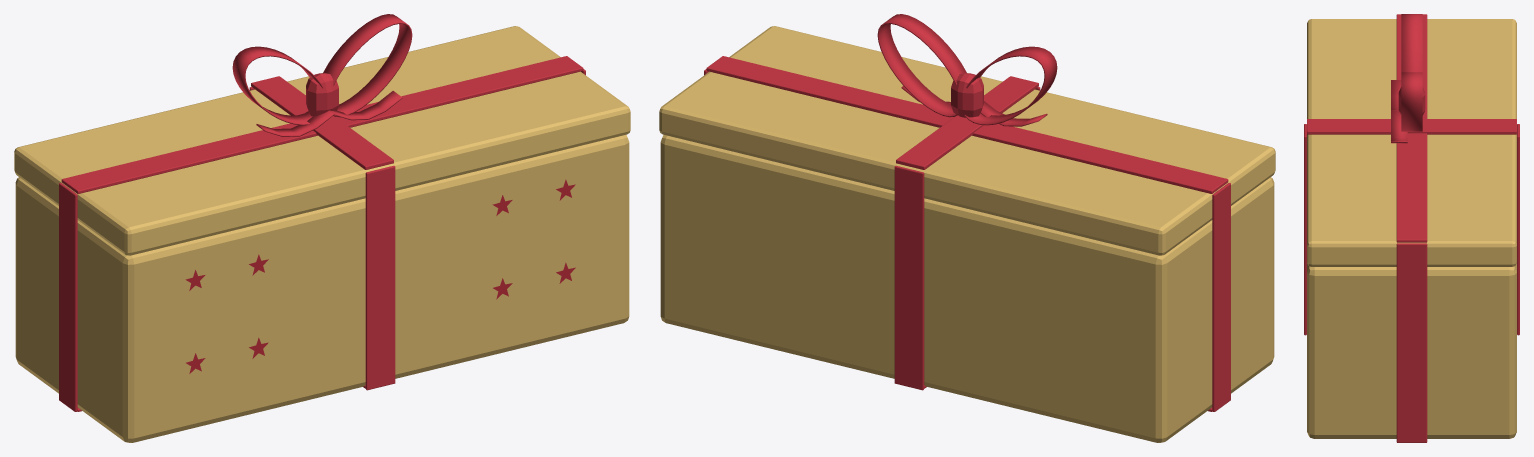
The model's file is present_long_gold.glb.
The picture shows the model from 3 angles, left to right: view 1: azimuth 30°, elevation 25°; view 2: azimuth 150°, elevation 25°; view 3: azimuth 270°, elevation 25°; orthographic projection. The views are drawn at different scales.
Visible parts, largest first — view 1: Long gold gift box, Long gold fitted lid, Ribbon across lid width, Ribbon over front and back, Ribbon over left and right, Curved bow loop 1, Ribbon across lid depth, Curved bow loop 2, Ribbon center knot, Bow ribbon tail.001, Bow ribbon tail; view 2: Long gold gift box, Long gold fitted lid, Ribbon across lid width, Ribbon over front and back.001, Ribbon over left and right, Curved bow loop 1, Ribbon across lid depth, Curved bow loop 2, Ribbon center knot; view 3: Long gold fitted lid, Long gold gift box, Ribbon over left and right.001, Ribbon across lid width, Ribbon across lid depth, Curved bow loop 1, Curved bow loop 2, Ribbon over front and back, Ribbon over front and back.001, Bow ribbon tail.001, Bow ribbon tail.
Boxes of the visible parts, bbox=[...] form: Long gold gift box: bbox=[15, 135, 629, 442]; Long gold fitted lid: bbox=[14, 26, 630, 255]; Ribbon across lid width: bbox=[61, 56, 583, 193]; Ribbon over front and back: bbox=[365, 165, 395, 390]; Ribbon over left and right: bbox=[59, 183, 77, 411]; Curved bow loop 1: bbox=[323, 14, 412, 117]; Ribbon across lid depth: bbox=[251, 76, 393, 169]; Curved bow loop 2: bbox=[232, 46, 323, 125]; Ribbon center knot: bbox=[306, 73, 338, 116]; Bow ribbon tail.001: bbox=[329, 91, 402, 120]; Bow ribbon tail: bbox=[256, 110, 333, 136]; Long gold gift box: bbox=[660, 135, 1274, 442]; Long gold fitted lid: bbox=[659, 26, 1275, 255]; Ribbon across lid width: bbox=[706, 56, 1228, 193]; Ribbon over front and back.001: bbox=[894, 165, 924, 390]; Ribbon over left and right: bbox=[1212, 183, 1230, 411]; Curved bow loop 1: bbox=[877, 14, 966, 117]; Ribbon across lid depth: bbox=[896, 76, 1038, 169]; Curved bow loop 2: bbox=[964, 46, 1057, 125]; Ribbon center knot: bbox=[951, 73, 983, 117]; Long gold fitted lid: bbox=[1307, 19, 1516, 266]; Long gold gift box: bbox=[1307, 263, 1516, 438]; Ribbon over left and right.001: bbox=[1396, 243, 1427, 442]; Ribbon across lid width: bbox=[1396, 14, 1427, 242]; Ribbon across lid depth: bbox=[1307, 119, 1516, 134]; Curved bow loop 1: bbox=[1401, 72, 1422, 131]; Curved bow loop 2: bbox=[1401, 14, 1422, 72]; Ribbon over front and back: bbox=[1304, 124, 1306, 335]; Ribbon over front and back.001: bbox=[1517, 124, 1519, 335]; Bow ribbon tail.001: bbox=[1391, 110, 1407, 143]; Bow ribbon tail: bbox=[1391, 80, 1401, 110].
Size of the model in its own units: 0.566 by 0.3271 by 0.226.
